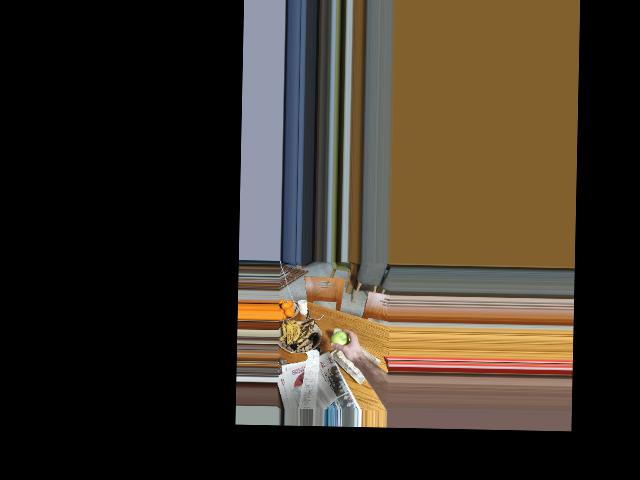apple: (330, 328, 351, 350)
